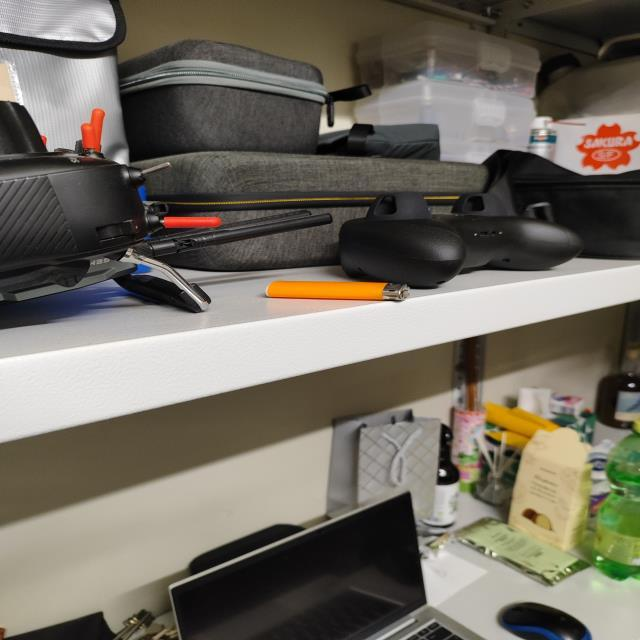lighter: (266, 280, 408, 301)
